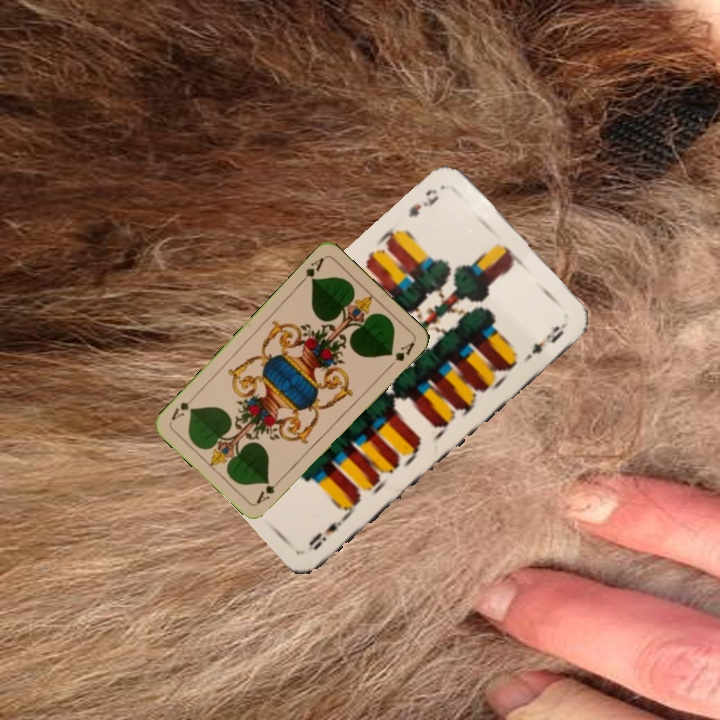E9: (304, 510, 352, 554), (404, 184, 442, 220)
GA: (252, 473, 285, 506), (296, 253, 327, 287)
